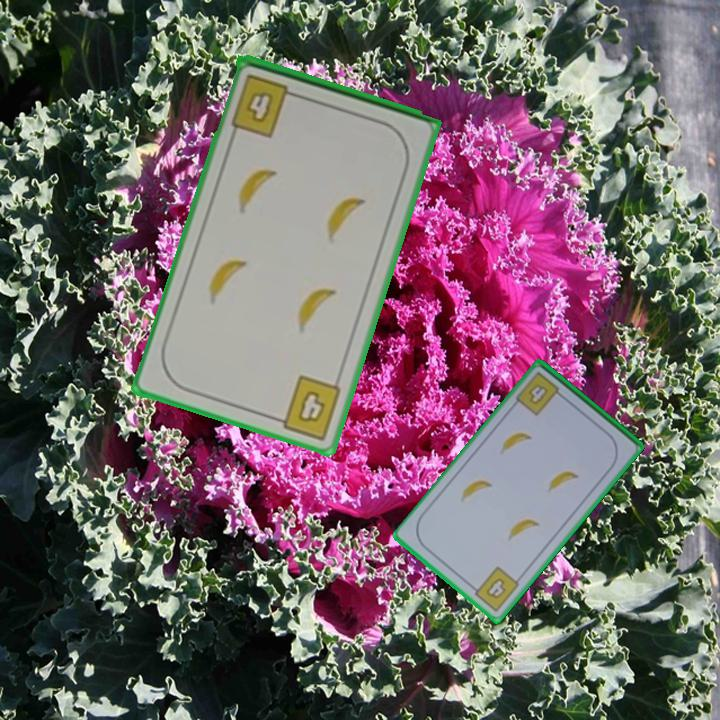4b: (269, 371, 345, 443), (227, 71, 303, 141), (467, 563, 522, 615), (512, 368, 568, 419)
